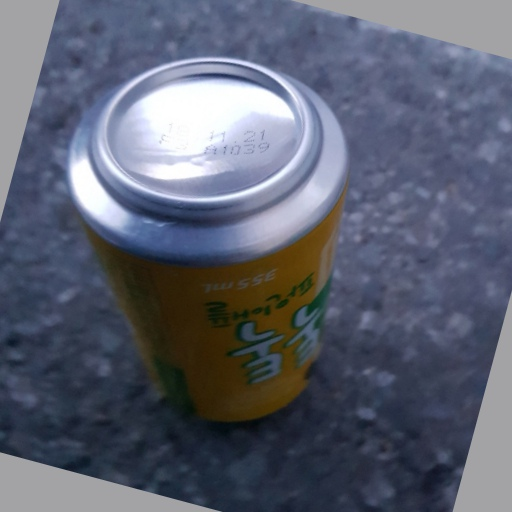Metal_0: (61, 53, 354, 435)
